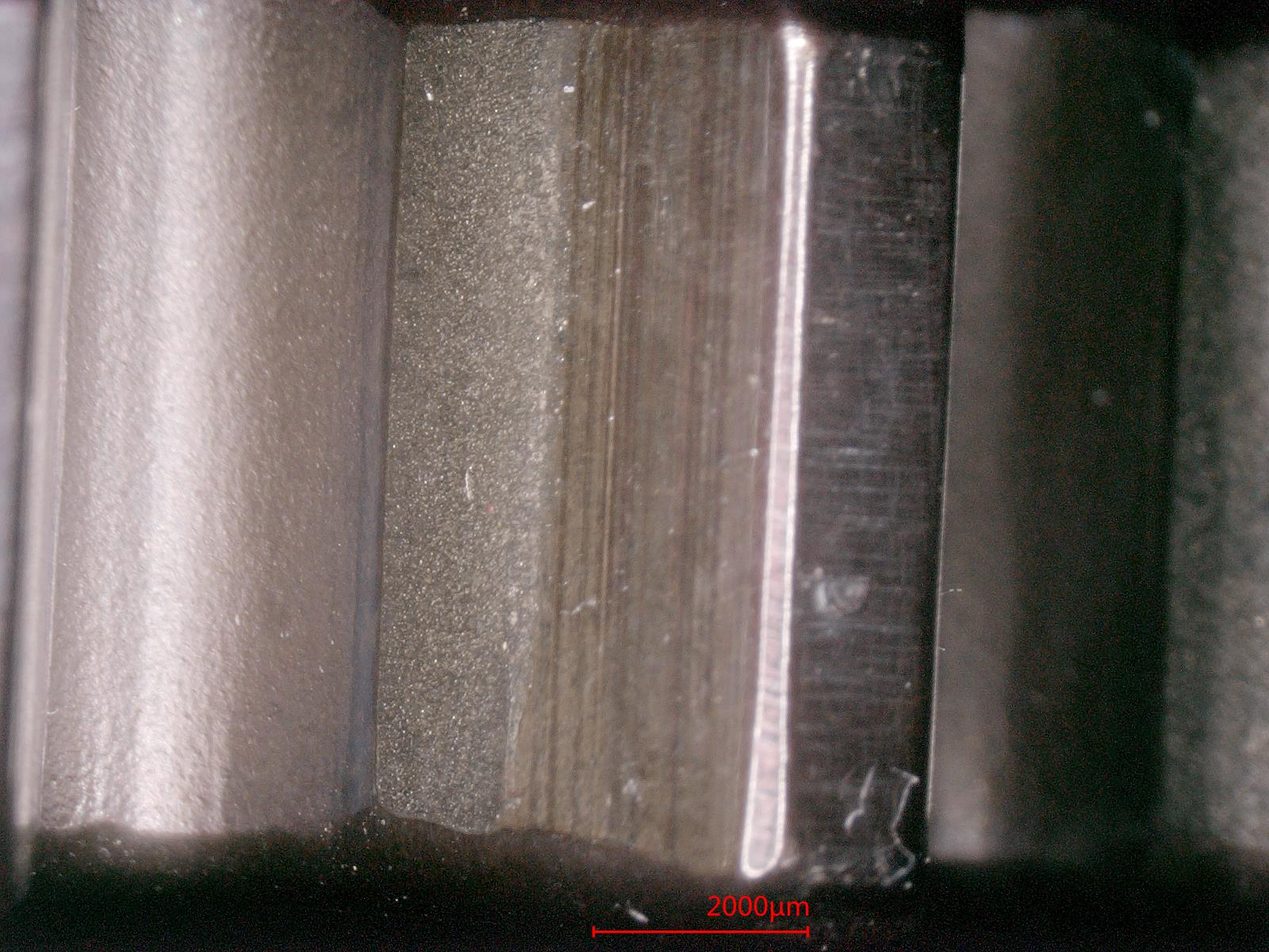Abrasion: (385, 36, 778, 858)
